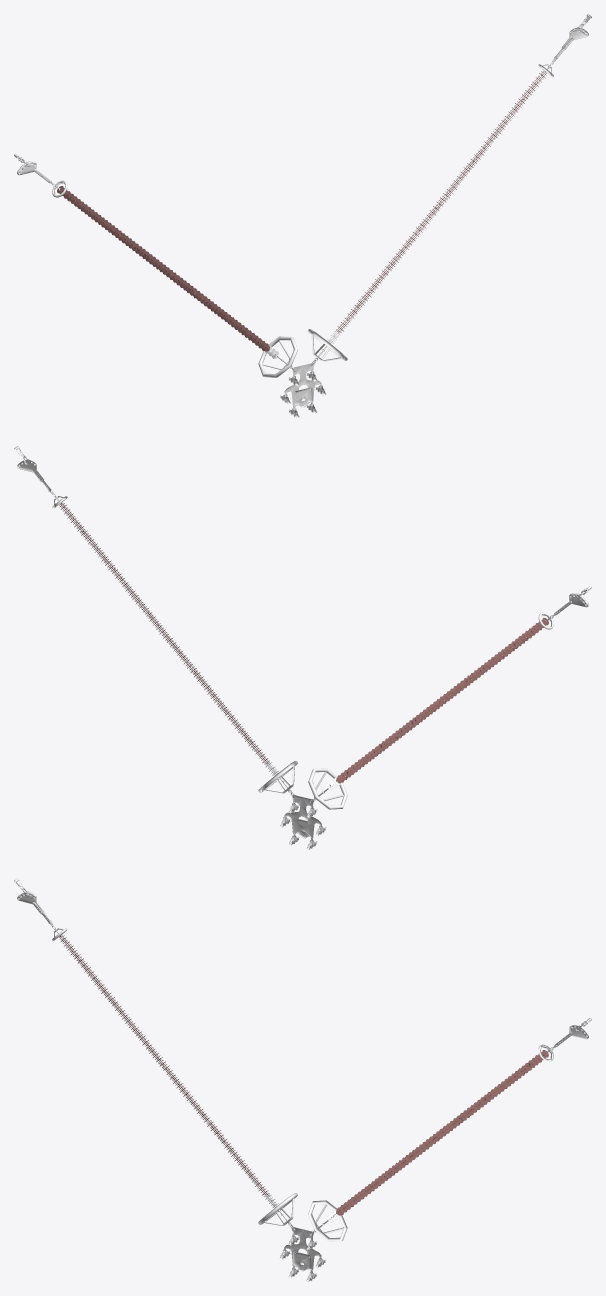
File: 750-XCC-V-6-13.glb
3 renders of one model, top to bottom at view 1: azimuth 30°, elevation 25°; view 2: azimuth 150°, elevation 25°; view 3: azimuth 330°, elevation 25°, orthographic.
Visible parts, largest first — view 1: Default; view 2: Default; view 3: Default.
Boxes of the visible parts, box(x1,y1,x2,y2) form: Default: box(14, 14, 591, 417); Default: box(14, 446, 591, 849); Default: box(14, 878, 591, 1281).
Bounding box in the file's own units: 13.06 × 7.13 × 0.98.
